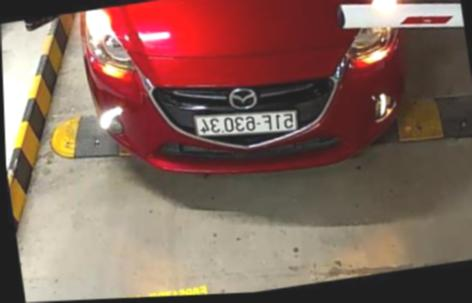License_Plate: (190, 103, 309, 149)
